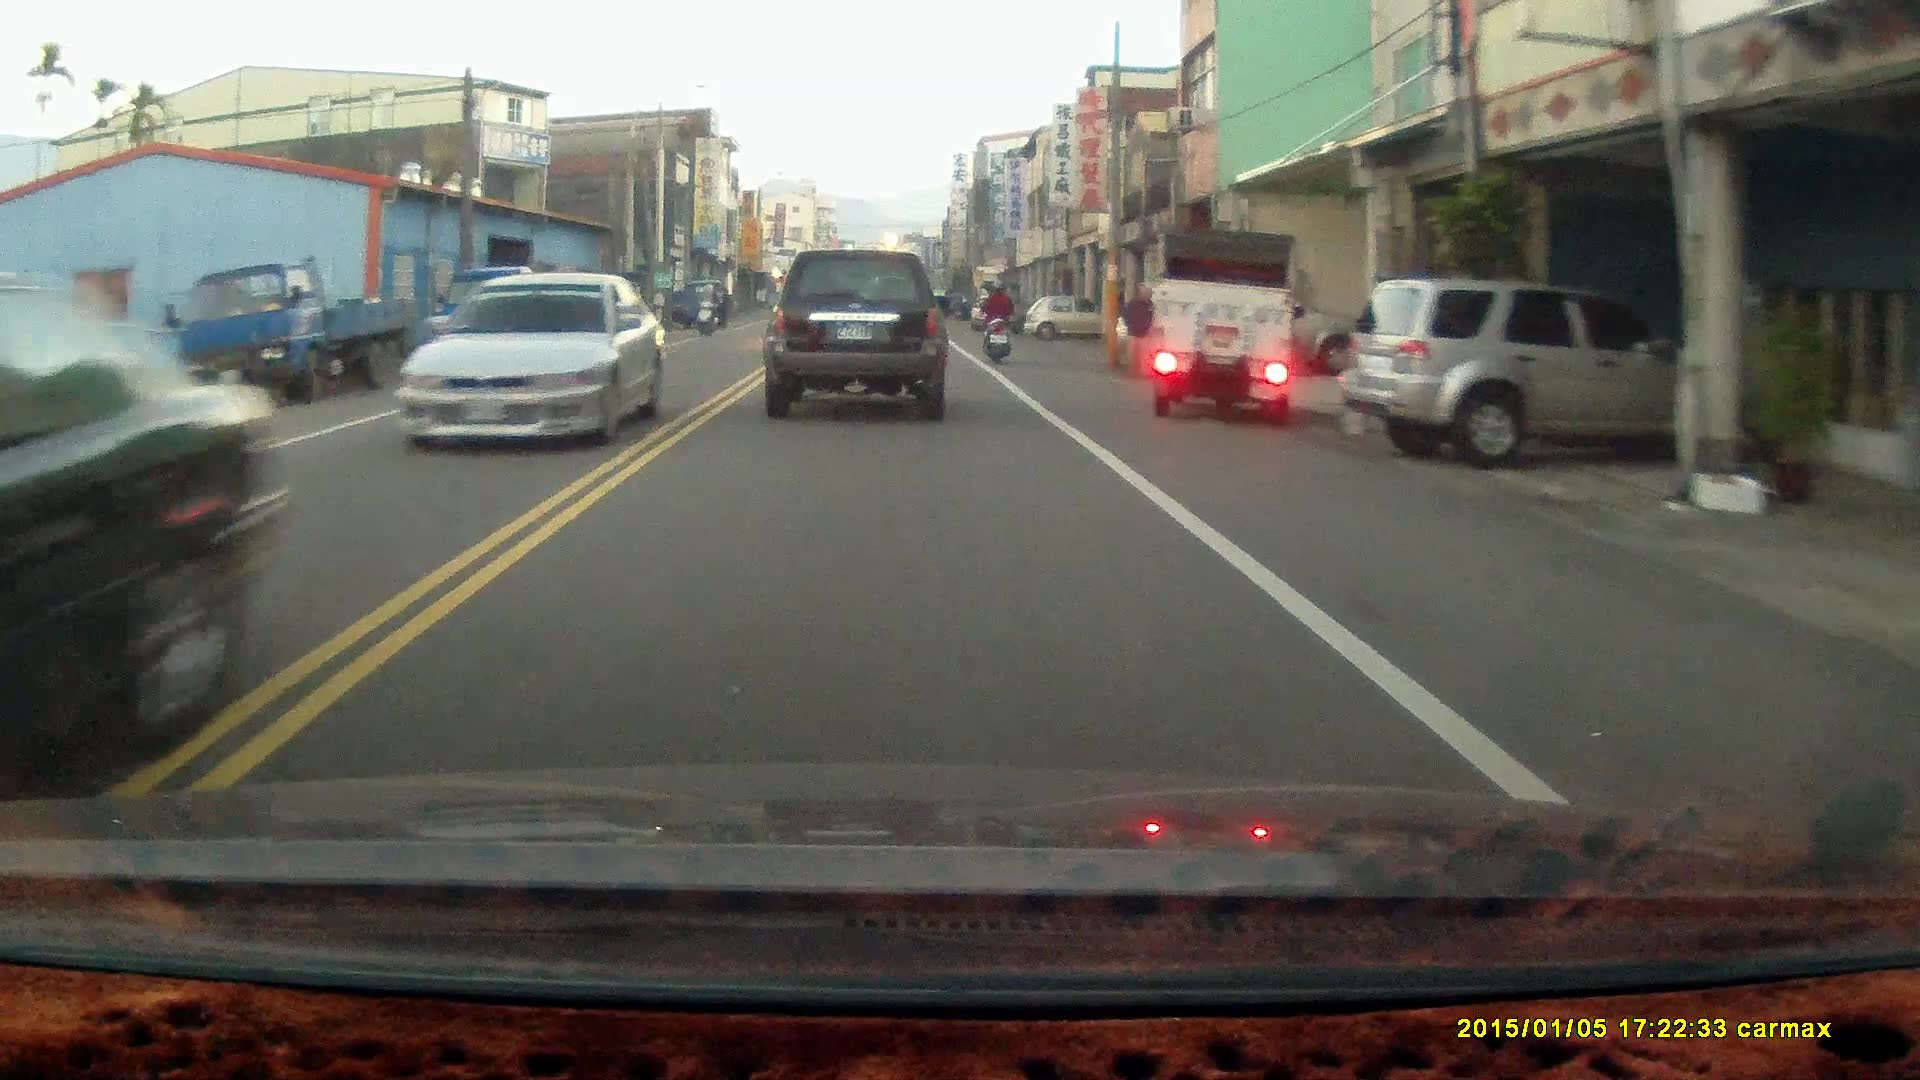pedestrian: (1123, 285, 1155, 380), (709, 279, 729, 331)
rider: (978, 281, 1014, 368), (694, 279, 723, 341)
vehicle: (1, 270, 290, 799), (1349, 279, 1697, 468), (392, 273, 662, 454), (176, 256, 406, 413), (766, 252, 951, 426), (1150, 229, 1303, 423), (1110, 277, 1356, 381), (1027, 296, 1102, 350)
